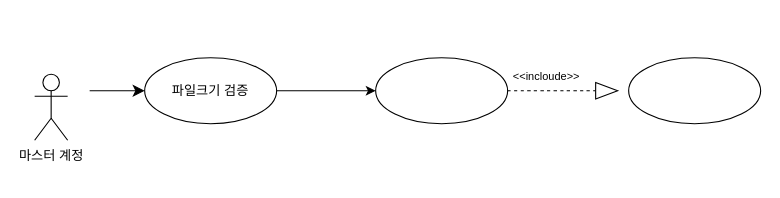
Some shapes in this 780 by 198 pixel diagram are drawn without their labels. Here are the shapes that lost their labels. From the top down, the centre of each, then its label:
At pixel 441 90: "파일업로드".
At pixel 694 90: "공지사항 등록".
